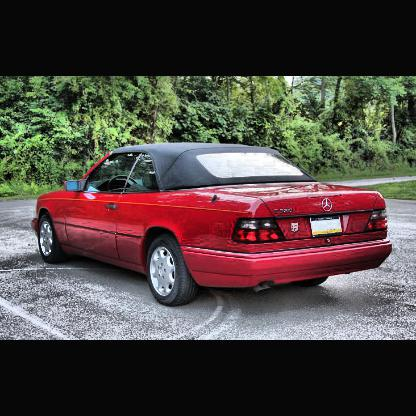Mercedes-Benz 300-Class Convertible 1993: (33, 139, 393, 310)
